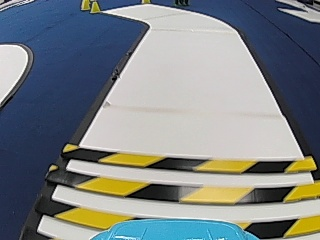bump: (72, 145, 303, 218)
